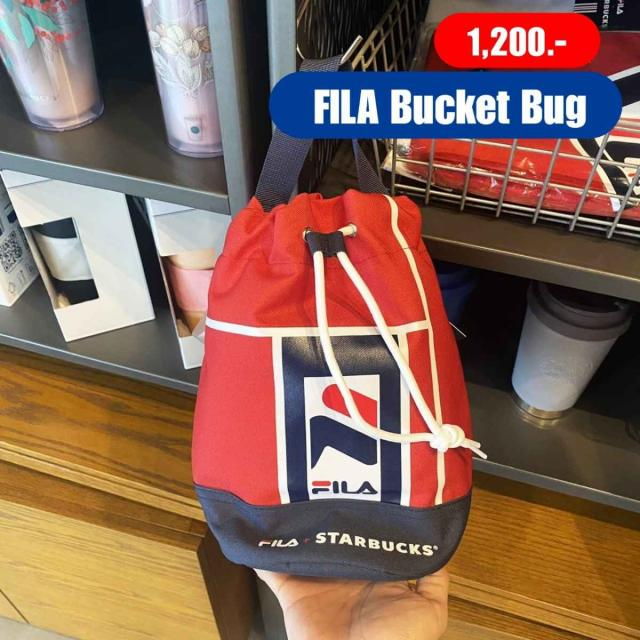handbag: (159, 104, 482, 588)
